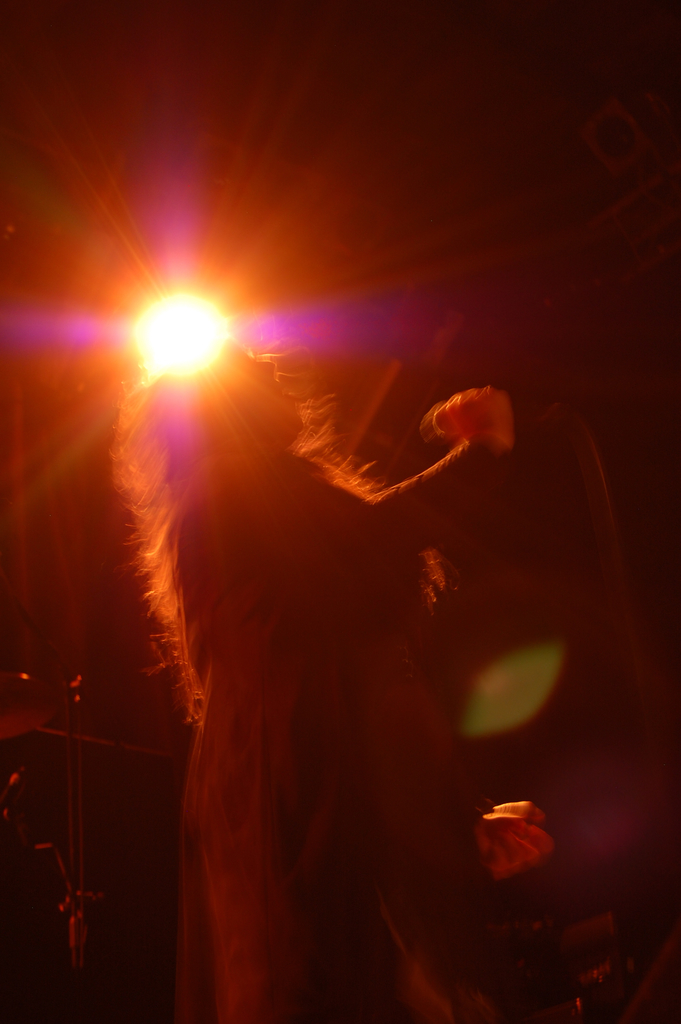Person: (109, 335, 555, 1024)
